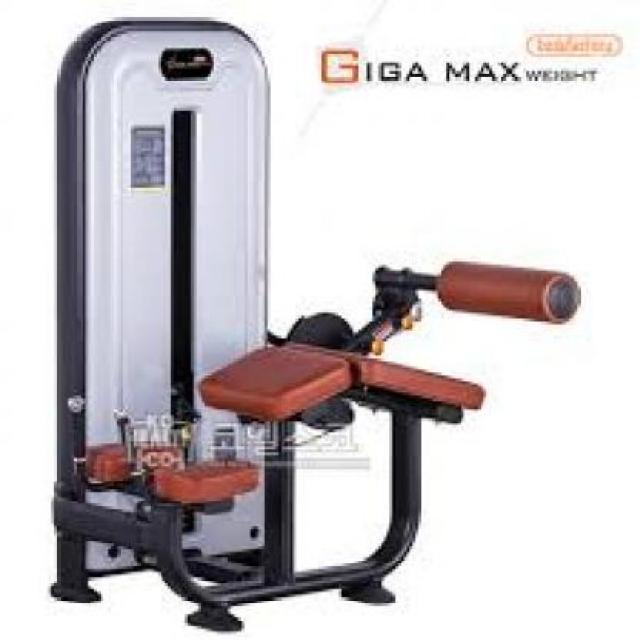reg curl machine: (49, 15, 582, 640)
